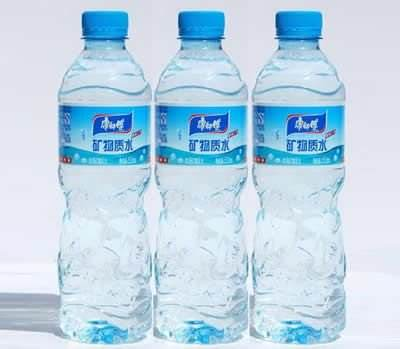amwater: (243, 7, 356, 345), (145, 4, 253, 343), (55, 3, 155, 345)
